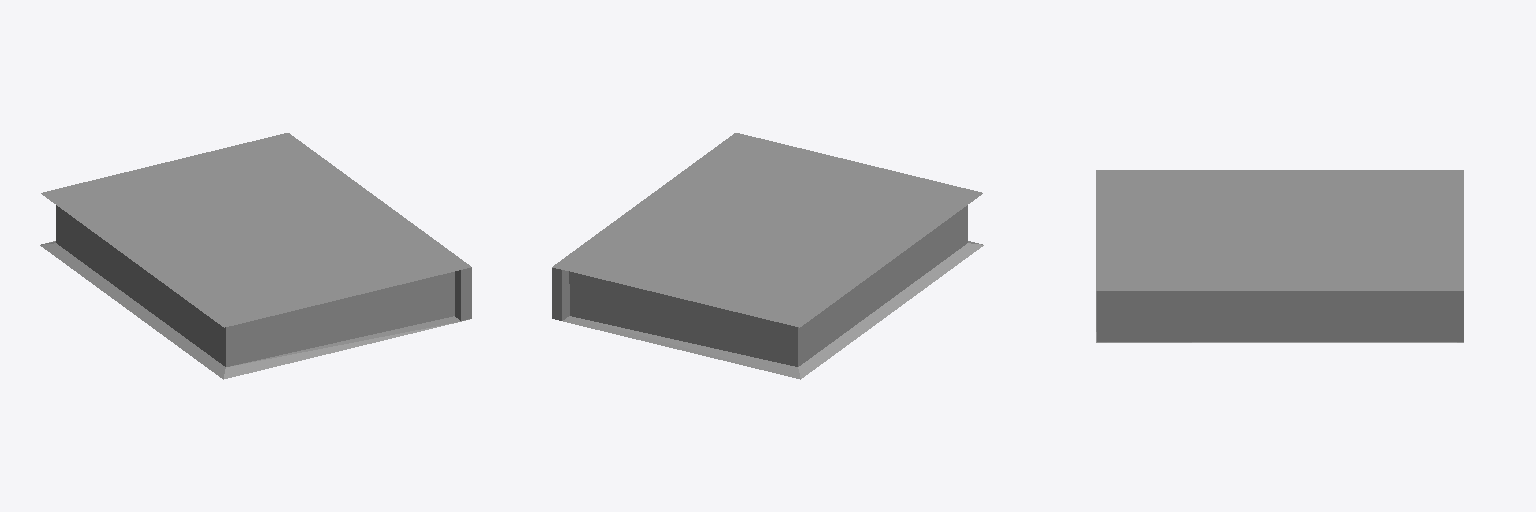
File: book1.obj
3 views of the same model, side by side, from view 1: azimuth 30°, elevation 25°; view 2: azimuth 150°, elevation 25°; view 3: azimuth 270°, elevation 25° (orthographic).
Parts seen in each view (by area): view 1: Cube; view 2: Cube; view 3: Cube.
Boxes of the visible parts, x1=… form: Cube: x1=40, y1=133, x2=471, y2=379; Cube: x1=552, y1=133, x2=983, y2=379; Cube: x1=1096, y1=170, x2=1463, y2=342.
Size of the model in its own units: 1.57 by 0.3098 by 2.